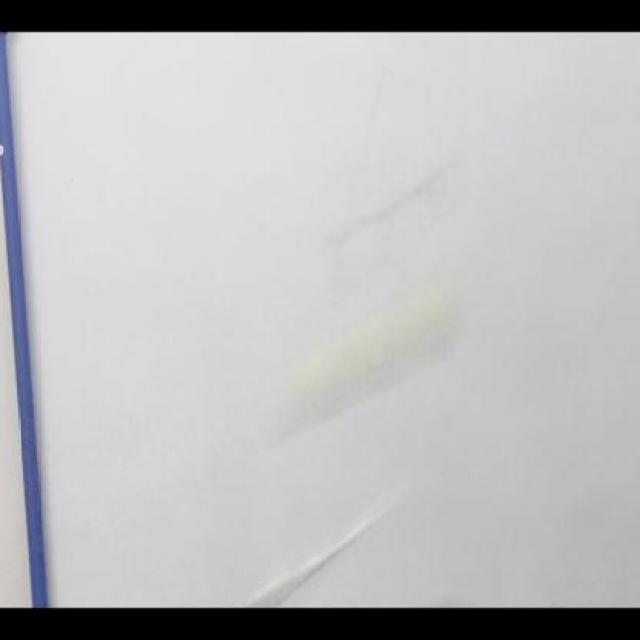baseball: (281, 293, 453, 436)
